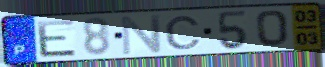0: (253, 9, 291, 48)
5: (215, 9, 250, 52)
8: (80, 16, 112, 58)
C: (162, 15, 203, 51)
E: (35, 18, 80, 59)
N: (120, 13, 165, 57)
